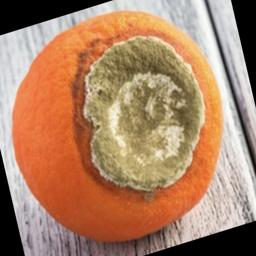Orange Rotten: (0, 7, 249, 234)
